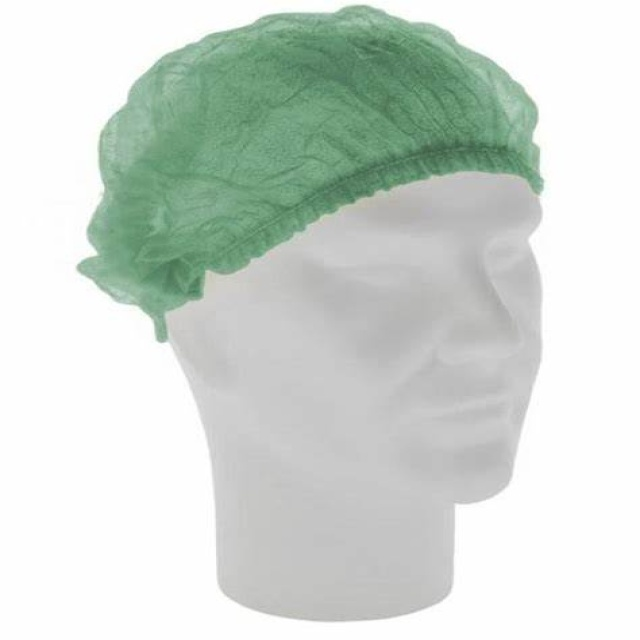Hairnet: (115, 52, 437, 172)
